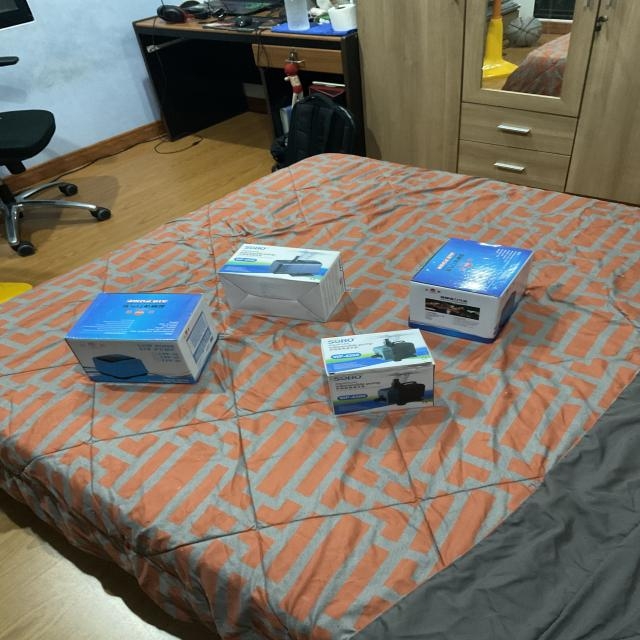SOBO_WP_4200: (218, 231, 351, 321), (311, 330, 446, 414)
YAMANO_LPP_20: (64, 281, 226, 397), (403, 227, 546, 346)
